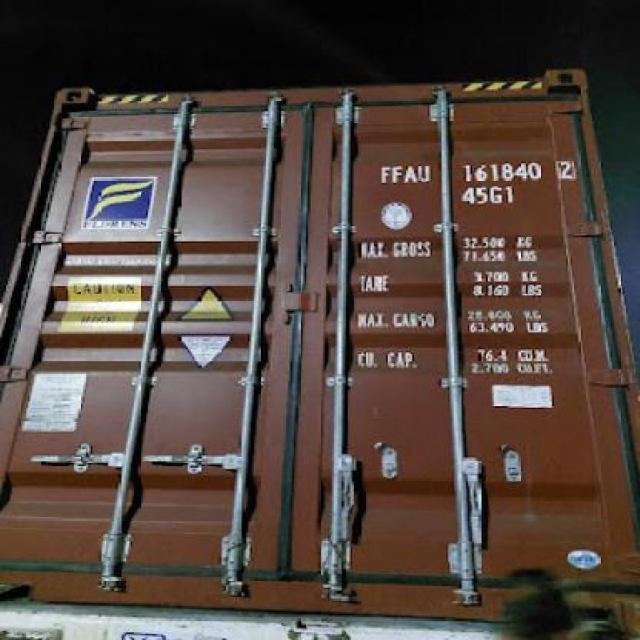ISO: (464, 184, 516, 206)
container_number: (381, 156, 564, 183)
